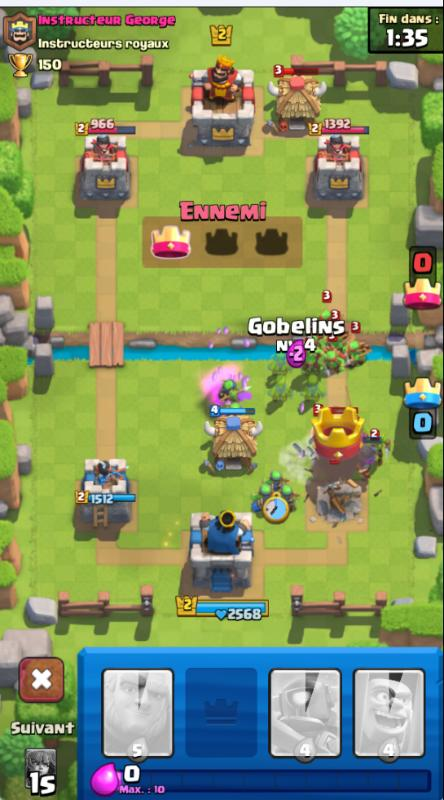gobelin_lances: (365, 428, 393, 473), (344, 338, 374, 374), (320, 346, 347, 386), (278, 481, 301, 520), (250, 484, 275, 518), (324, 328, 346, 357), (303, 345, 321, 380), (315, 307, 334, 332), (266, 468, 288, 488)
mousquetaire: (350, 432, 379, 484)
